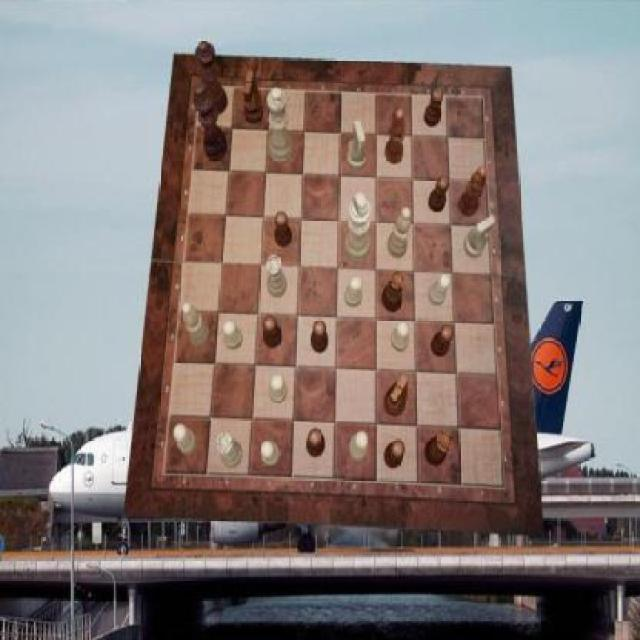bishop: (458, 166, 488, 219), (384, 108, 406, 164)
black-bishop: (194, 83, 229, 161)
black-king: (244, 70, 264, 124), (385, 374, 409, 416)
black-knight: (428, 176, 450, 212), (431, 325, 454, 357), (425, 88, 442, 126), (274, 212, 291, 248), (263, 317, 282, 349), (386, 440, 406, 469), (311, 318, 328, 352), (306, 429, 326, 457)
black-pawn: (196, 40, 228, 116)
black-queen: (426, 430, 454, 466), (383, 271, 406, 312)
black-rook: (183, 303, 211, 349), (388, 208, 410, 258)
white-bishop: (344, 192, 372, 265)
white-king: (465, 216, 497, 260), (348, 121, 368, 172)
white-knight: (172, 425, 196, 457), (428, 274, 450, 308), (391, 321, 410, 354), (349, 431, 369, 462), (223, 320, 243, 351), (345, 277, 362, 309), (270, 374, 288, 403), (260, 441, 280, 467)
white-pawn: (268, 88, 294, 164)
white-queen: (266, 255, 287, 298), (217, 432, 241, 468)
